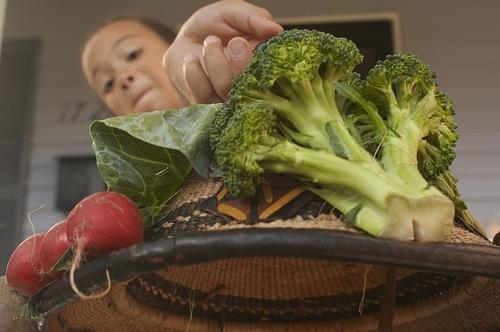broccoli: (210, 28, 460, 243)
lettuce: (89, 103, 223, 232)
radish: (66, 191, 144, 300), (5, 232, 54, 298), (38, 221, 70, 280)
